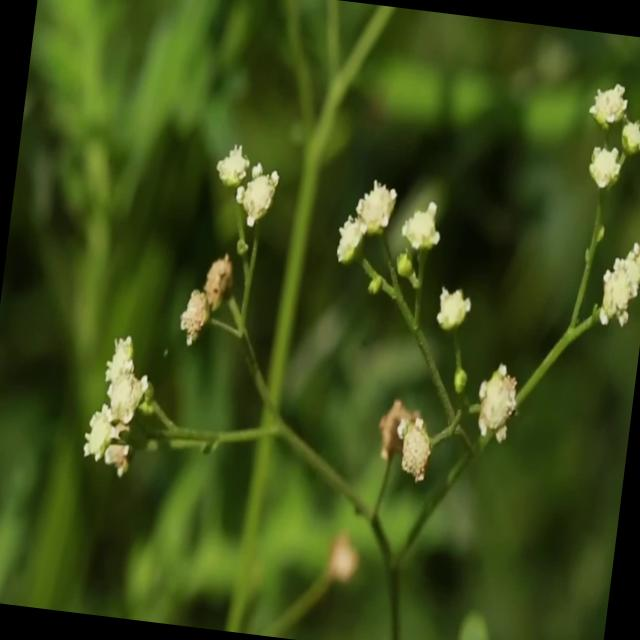Poisonous-Parthenium: (62, 114, 550, 640), (507, 50, 640, 457)
